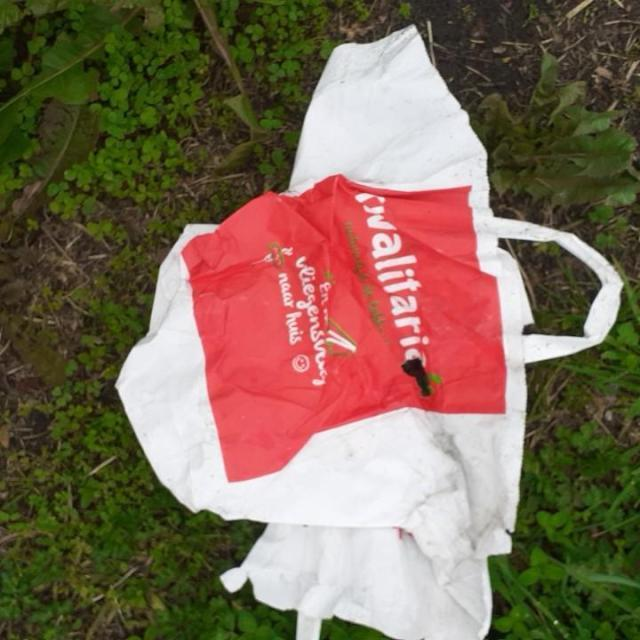Paper: (111, 20, 626, 638)
